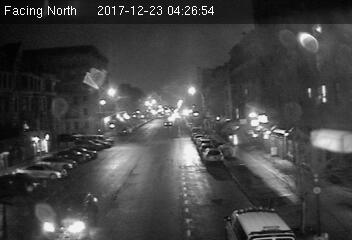car: (41, 190, 101, 237), (198, 148, 223, 162)
police: (221, 204, 295, 240)
